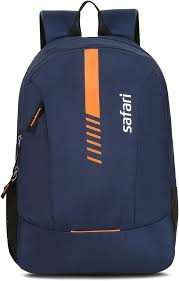backpack: (1, 0, 178, 275)
